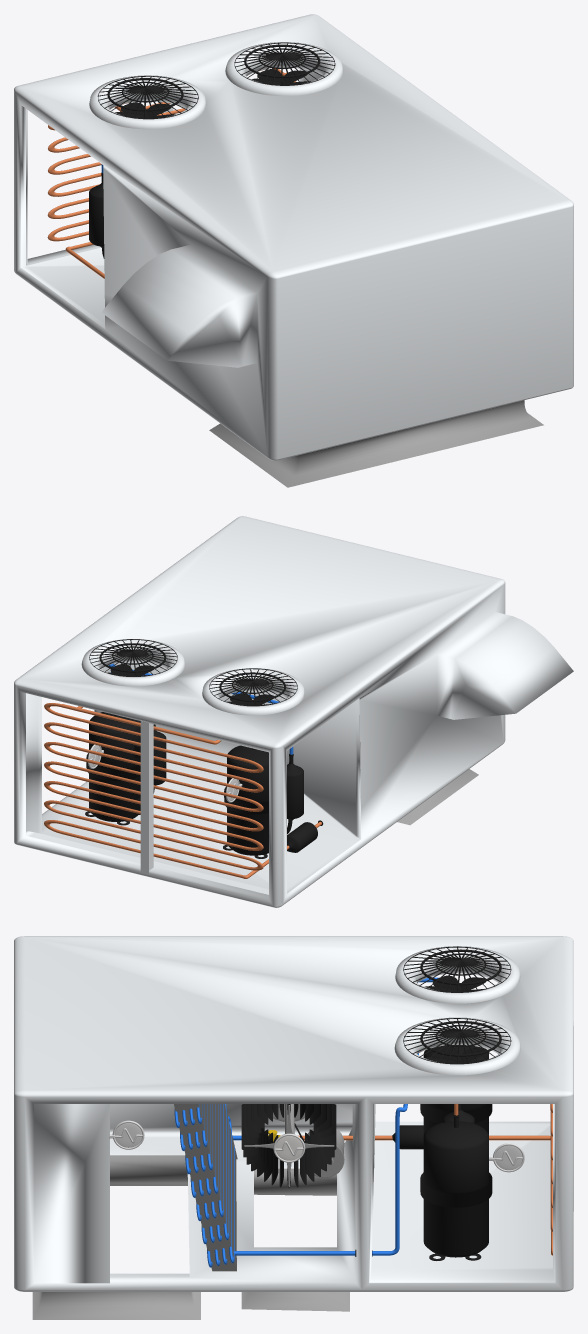
File: rooftop_engie.glb
3 views of the same model, one above another, from view 1: azimuth 30°, elevation 25°; view 2: azimuth 150°, elevation 25°; view 3: azimuth 270°, elevation 25° (orthographic). The views are drawn at different scales.
Parts seen in each view (by area): view 1: Cubo, Toróide.006, Toróide.002, Círculo, Círculo.001, BézierCurve.010, Cilindro.PQ.002; view 2: Cubo, BézierCurve.010, CilindroGD.001, CilindroGD.002, Toróide.006, Toróide.002, Cubo.003, Círculo, Círculo.001, Cilindro.PQ.002, Cilindro.PQ.003, BézierCurve.013 (+1 smaller); view 3: Cubo, CilindroGD.001, Cubo.015, Ventilador_Evap, Toróide.002, Toróide.006, Círculo.001, Círculo, BézierCurve.018, BézierCurve.019, CilindroGD.002, Cilindro.PQ.003 (+7 smaller).
Part boxes in pixels (x1,y1,x2,y2): Cubo: [14, 14, 573, 487]; Toróide.006: [89, 75, 206, 129]; Toróide.002: [225, 42, 343, 96]; Círculo: [234, 42, 335, 85]; Círculo.001: [97, 76, 198, 119]; BézierCurve.010: [47, 69, 286, 249]; Cilindro.PQ.002: [89, 183, 104, 248]; Cubo: [14, 516, 573, 907]; BézierCurve.010: [44, 703, 263, 878]; CilindroGD.001: [86, 712, 140, 821]; CilindroGD.002: [224, 745, 268, 855]; Toróide.006: [202, 668, 304, 715]; Toróide.002: [81, 639, 185, 686]; Cubo.003: [140, 720, 153, 874]; Círculo: [89, 639, 177, 676]; Círculo.001: [209, 668, 297, 706]; Cilindro.PQ.002: [287, 763, 303, 820]; Cilindro.PQ.003: [287, 822, 317, 852]; BézierCurve.013: [61, 704, 219, 744]; Cubo: [14, 936, 573, 1319]; CilindroGD.001: [420, 1121, 492, 1257]; Cubo.015: [174, 1104, 237, 1271]; Ventilador_Evap: [241, 1104, 336, 1187]; Toróide.002: [394, 1017, 520, 1075]; Toróide.006: [395, 946, 520, 1003]; Círculo.001: [403, 946, 511, 992]; Círculo: [403, 1018, 511, 1064]; BézierCurve.018: [196, 1104, 234, 1263]; BézierCurve.019: [233, 1104, 407, 1255]; CilindroGD.002: [420, 1045, 492, 1134]; Cilindro.PQ.003: [392, 1125, 423, 1149].
Size of the model in its own units: 4.41 by 2.55 by 5.06.
